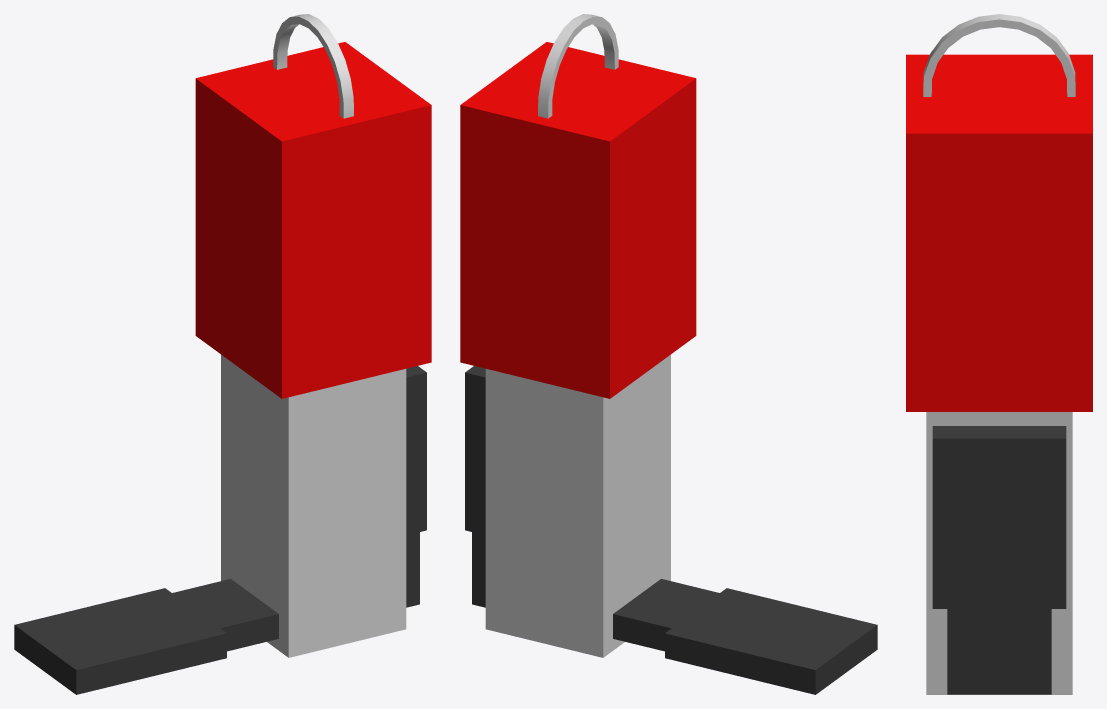
Rendered from rescueseat.fbx.
3 renders of one model, left to right at view 1: azimuth 30°, elevation 25°; view 2: azimuth 150°, elevation 25°; view 3: azimuth 270°, elevation 25°, orthographic. The views are drawn at different scales.
Parts seen in each view (by area): view 1: OuterShell; view 2: OuterShell; view 3: OuterShell.
Part boxes in pixels (<box>): OuterShell: <box>14,14,431,694</box>; OuterShell: <box>460,14,877,694</box>; OuterShell: <box>906,14,1092,694</box>.
Size of the model in its own units: 51.18 by 83.53 by 21.84.
